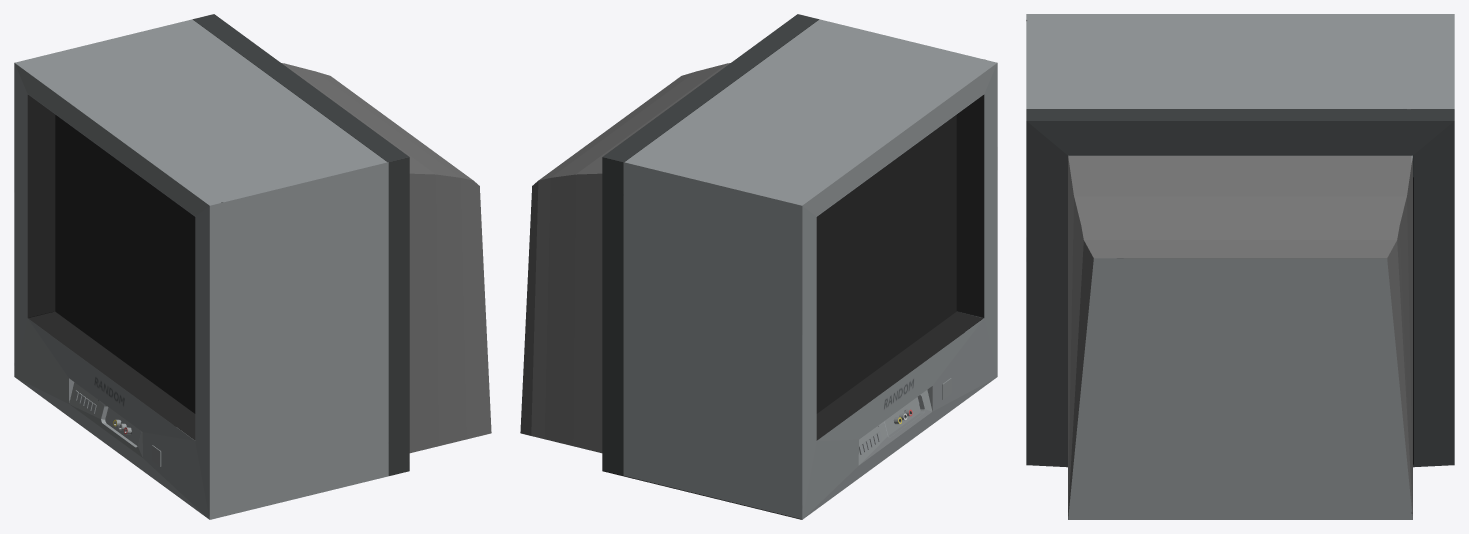
File: brawn_kan.fbx
3 views of the same model, side by side, from view 1: azimuth 30°, elevation 25°; view 2: azimuth 150°, elevation 25°; view 3: azimuth 270°, elevation 25° (orthographic). The views are drawn at different scales.
Parts seen in each view (by area): view 1: 円柱.002; view 2: 円柱.002; view 3: 円柱.002.
Boxes of the visible parts, box(x1,y1,x2,y2) form: 円柱.002: box(14, 14, 491, 519); 円柱.002: box(520, 14, 997, 519); 円柱.002: box(1026, 14, 1454, 519).
Size of the model in its own units: 396 by 394 by 443.
1 material, 1 textured.
